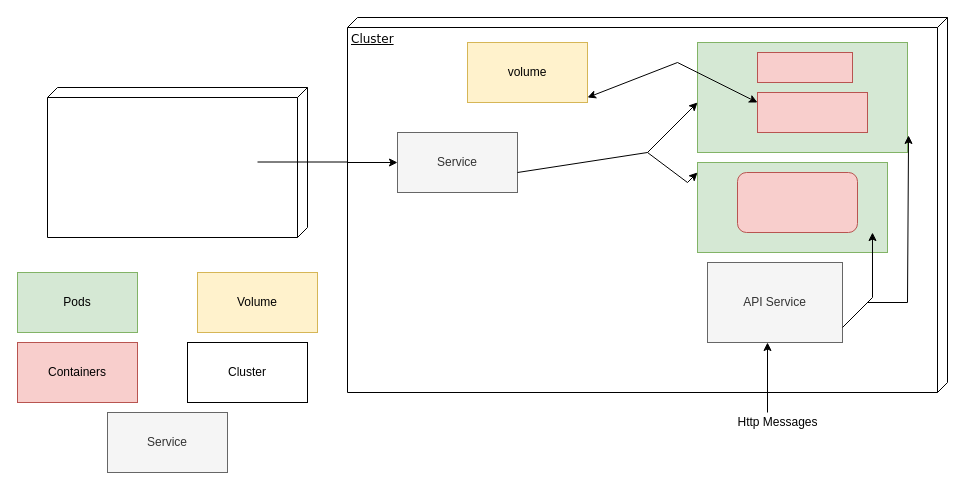
The diagram is 965 pixels wide and 490 high, and some of its shapes have lost their labels. Here are the shapes that lost their labels. From the top down, the box of each, then its label:
(756, 52, 852, 82): flashcards front end
(756, 92, 868, 132): flashcards backend
(46, 86, 308, 238): Local Machine
(736, 172, 858, 232): Video Game Server
